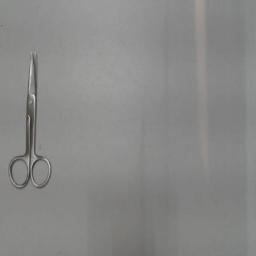Dressing Scissors: (4, 42, 56, 194)
